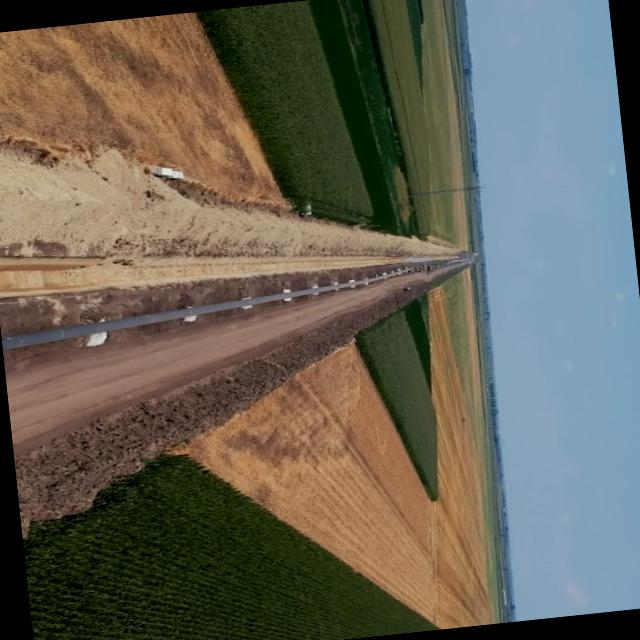gas: (0, 263, 415, 352)
